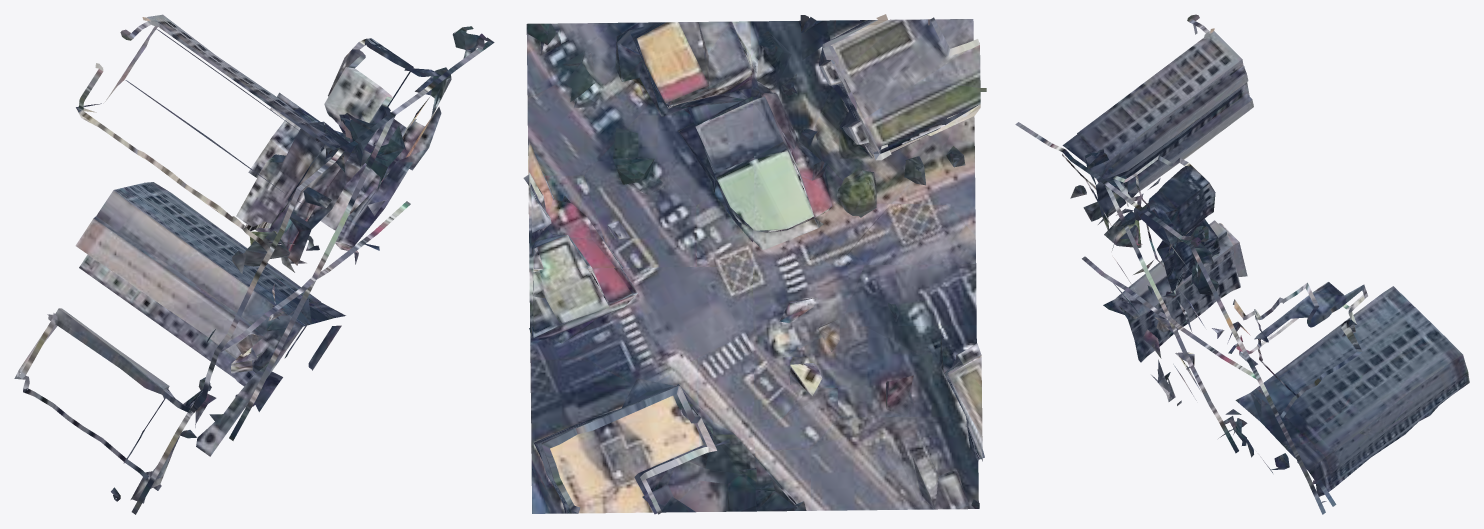
The picture shows the model from 3 angles, left to right: view 1: azimuth 30°, elevation 25°; view 2: azimuth 150°, elevation 25°; view 3: azimuth 270°, elevation 25°; orthographic projection. The views are drawn at different scales.
Bounding box in the file's own units: 88.67 × 88.08 × 93.82.
Materials: 1 (1 with a texture image).
